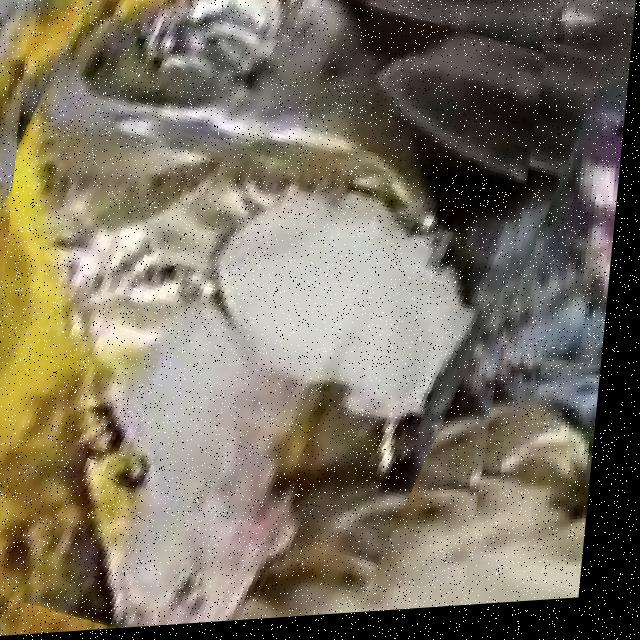litter: (16, 0, 524, 630)
